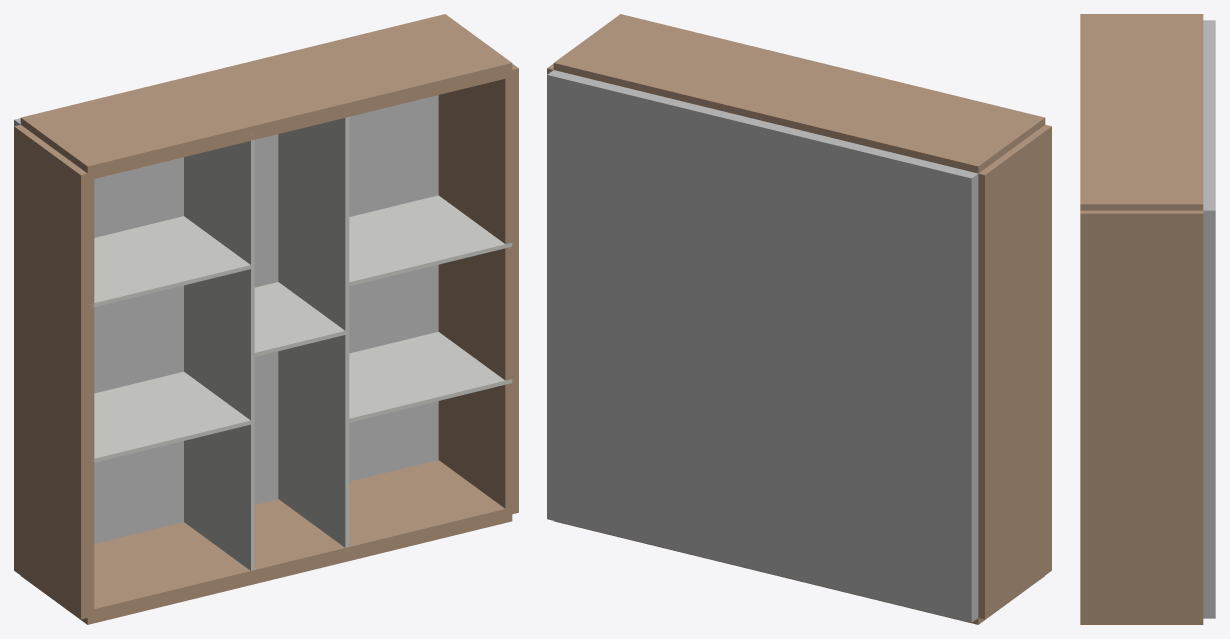
3 renders of one model, left to right at view 1: azimuth 30°, elevation 25°; view 2: azimuth 150°, elevation 25°; view 3: azimuth 270°, elevation 25°, orthographic. The views are drawn at different scales.
Parts seen in each view (by area): view 1: floor_slab, wall_3, wall_2, wall_1, wall_0, wall_7, wall_8, wall_10, wall_9, wall_5, wall_12, wall_11 (+3 smaller); view 2: floor_slab, wall_3, wall_2; view 3: wall_1, wall_2, floor_slab, wall_0.
Boxes of the visible parts, left/top/right/bottom form: floor_slab: left=14, top=95, right=438, bottom=543; wall_3: left=14, top=124, right=94, bottom=619; wall_2: left=20, top=14, right=512, bottom=180; wall_1: left=438, top=64, right=518, bottom=515; wall_0: left=21, top=460, right=512, bottom=624; wall_7: left=278, top=332, right=349, bottom=551; wall_8: left=184, top=307, right=254, bottom=570; wall_10: left=278, top=112, right=349, bottom=332; wall_9: left=184, top=133, right=254, bottom=355; wall_5: left=347, top=195, right=512, bottom=286; wall_12: left=88, top=216, right=252, bottom=307; wall_11: left=347, top=332, right=512, bottom=422; floor_slab: left=547, top=70, right=978, bottom=622; wall_3: left=978, top=124, right=1051, bottom=619; wall_2: left=553, top=14, right=1045, bottom=173; wall_1: left=1080, top=210, right=1203, bottom=621; wall_2: left=1080, top=14, right=1203, bottom=210; floor_slab: left=1203, top=20, right=1215, bottom=618; wall_0: left=1080, top=621, right=1203, bottom=624.
Size of the model in its own units: 11.35 by 11.35 by 3.3.
